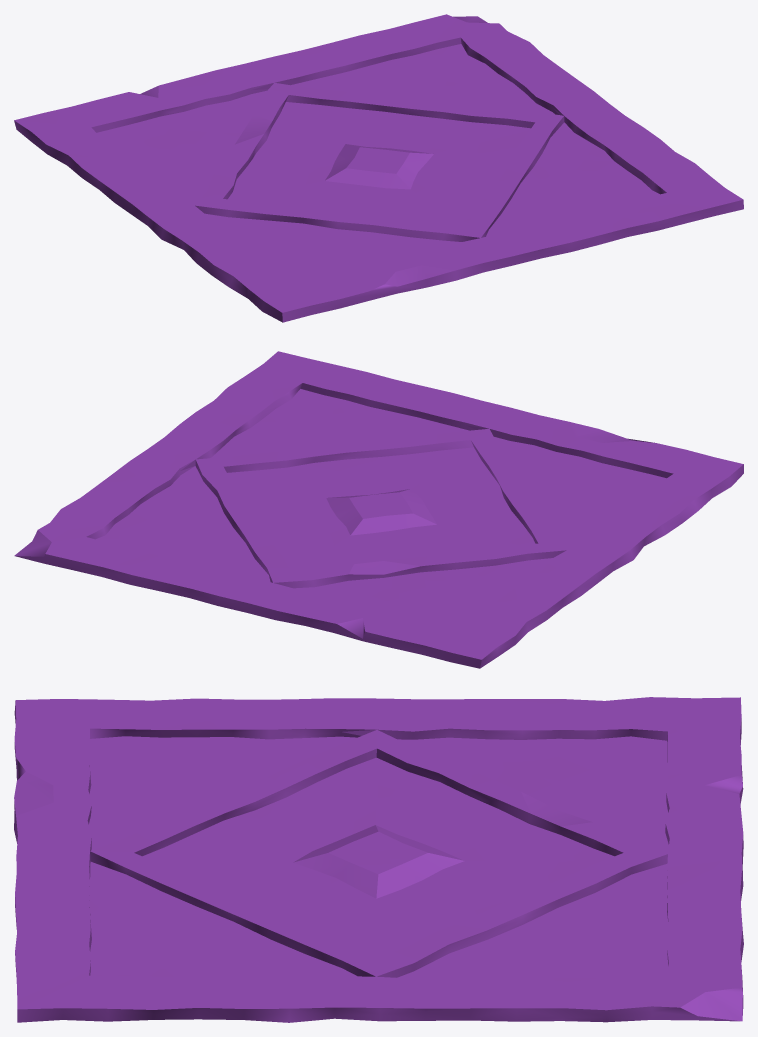
Rendered from PathCenter.glb.
3 renders of one model, top to bottom at view 1: azimuth 30°, elevation 25°; view 2: azimuth 150°, elevation 25°; view 3: azimuth 270°, elevation 25°, orthographic. The views are drawn at different scales.
Parts seen in each view (by area): view 1: Box018; view 2: Box018; view 3: Box018.
Boxes of the visible parts, x1=… form: Box018: x1=14, y1=14, x2=743, y2=322; Box018: x1=14, y1=351, x2=743, y2=668; Box018: x1=14, y1=697, x2=743, y2=1022.
Bounding box in the file's own units: 1.27 × 0.0254 × 1.25.
